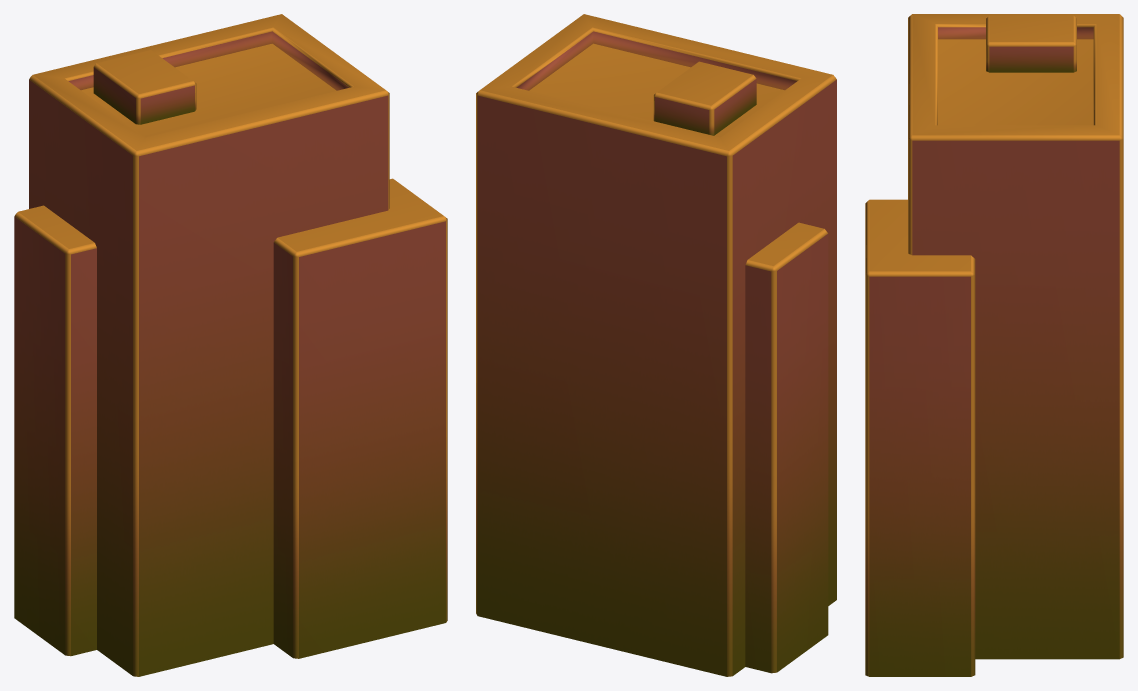
File: prop_BuildingSmall04.fbx
The picture shows the model from 3 angles, left to right: view 1: azimuth 30°, elevation 25°; view 2: azimuth 150°, elevation 25°; view 3: azimuth 270°, elevation 25°; orthographic projection.
Parts seen in each view (by area): view 1: prop_BuildingSmall04; view 2: prop_BuildingSmall04; view 3: prop_BuildingSmall04.
Part boxes in pixels (x1,y1,x2,y2): prop_BuildingSmall04: (14,14,447,676); prop_BuildingSmall04: (476,14,836,676); prop_BuildingSmall04: (865,14,1123,676).
Bounding box in the file's own units: 881 × 1417 × 614.
